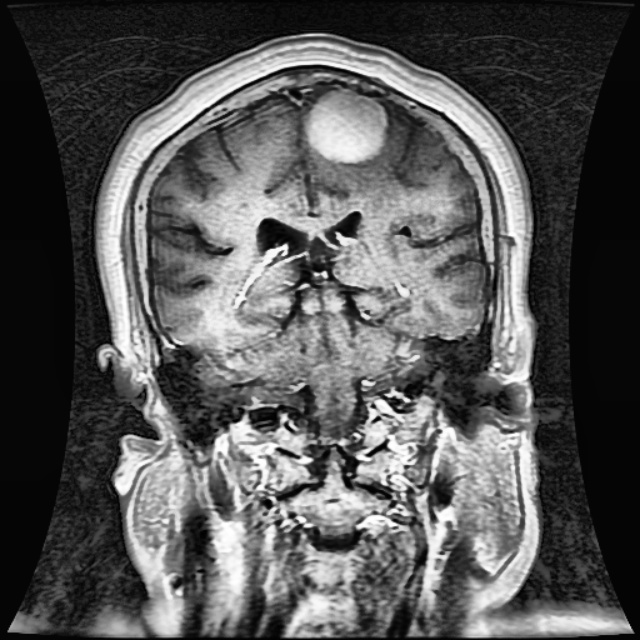Glioma: (308, 87, 384, 159)
